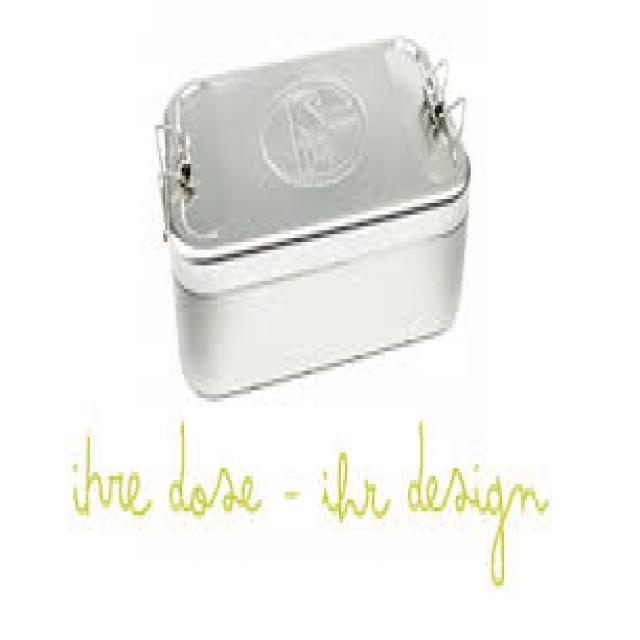recyclable: (155, 33, 471, 400)
